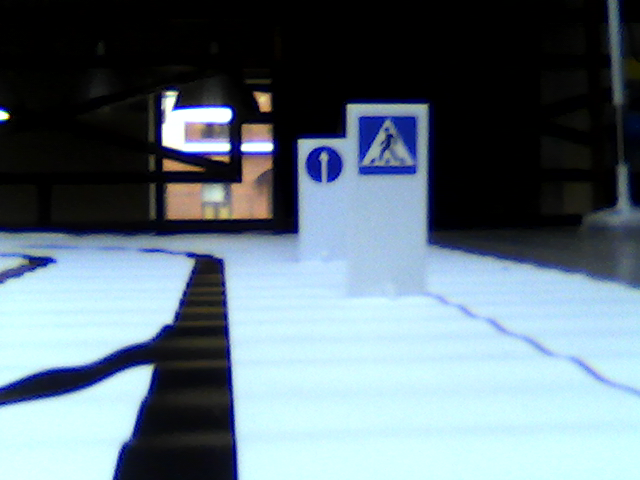forw: (306, 143, 342, 183)
pesh: (355, 113, 415, 174)
